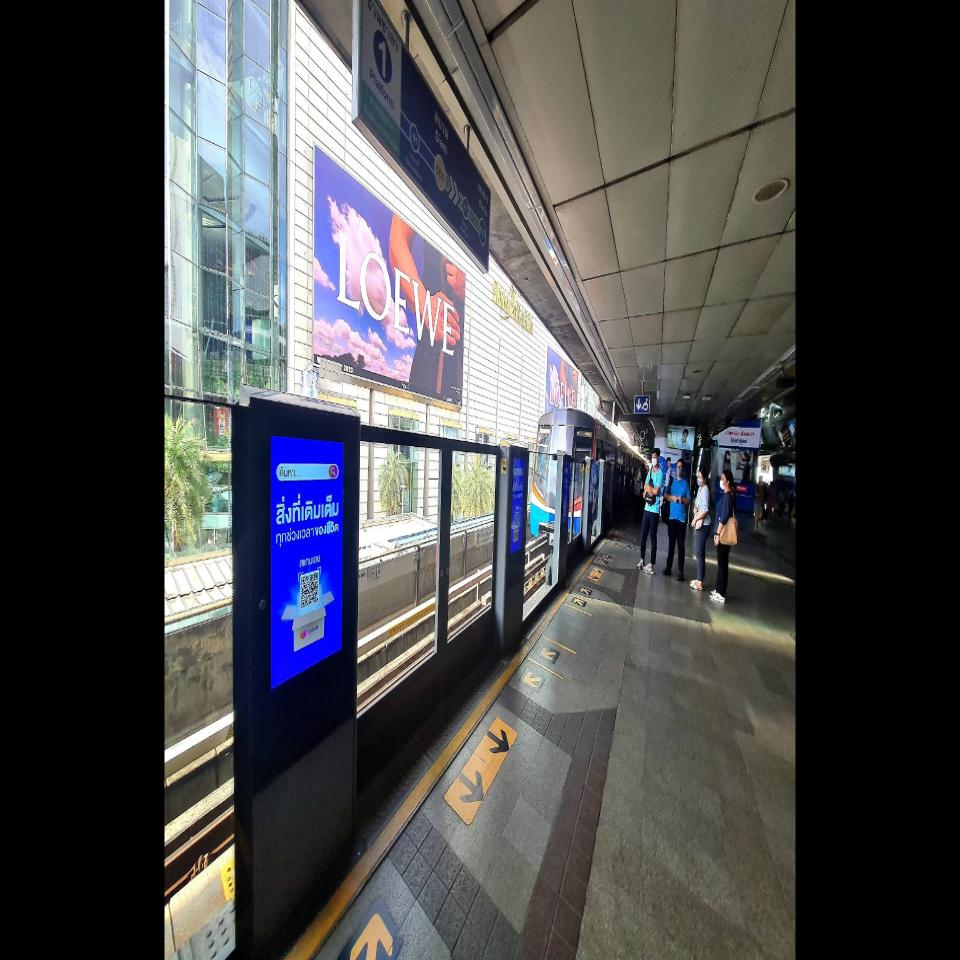signage: (410, 108, 470, 222)
